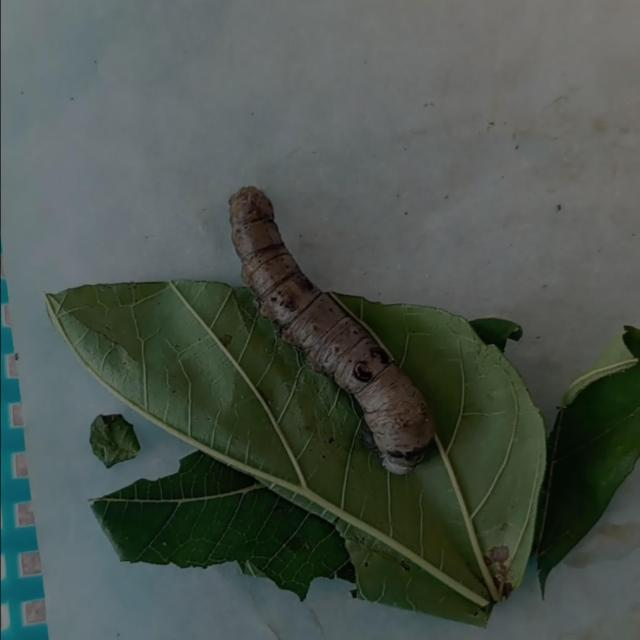Grasserie: (203, 156, 470, 491)
